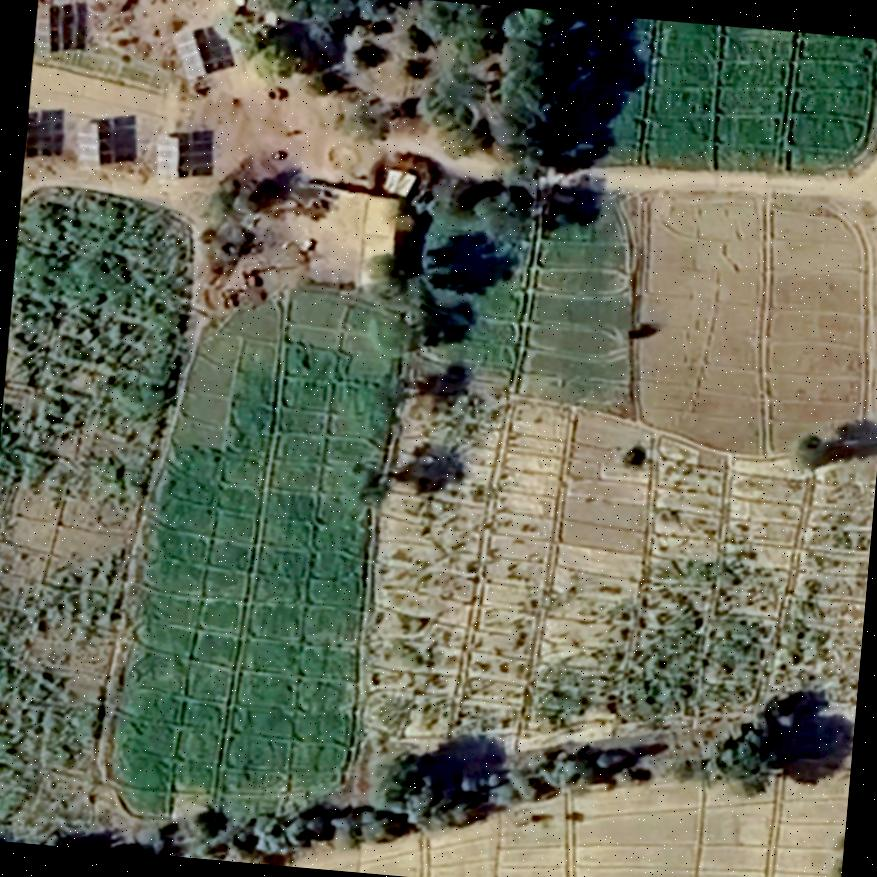Solarpanel: (162, 22, 210, 83), (151, 134, 184, 188), (71, 120, 100, 169), (33, 1, 53, 62)
